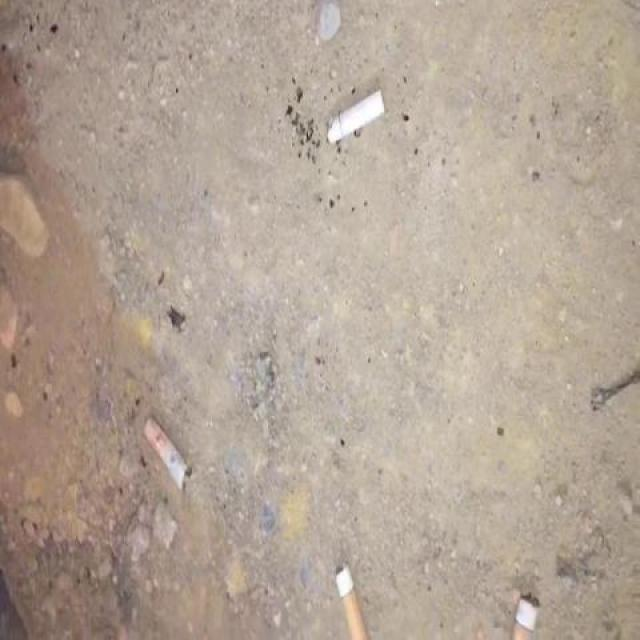non-organic waste: (140, 407, 200, 496), (320, 85, 388, 148), (332, 558, 374, 640)
